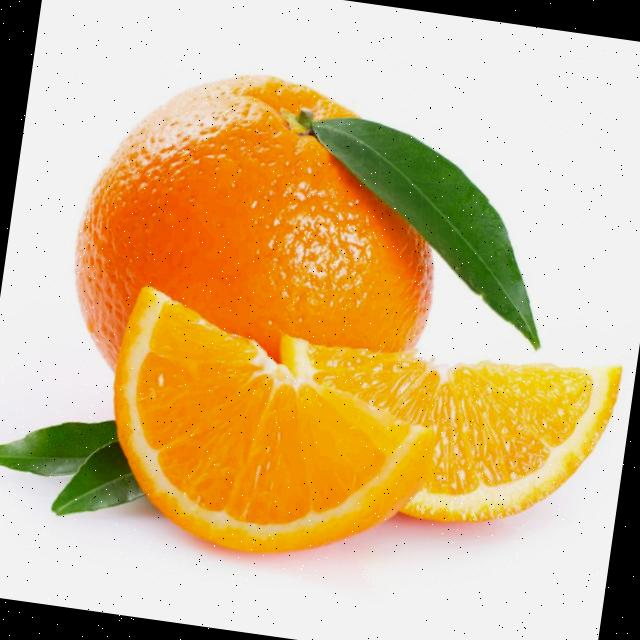orange: (52, 50, 472, 445), (92, 288, 459, 586)
